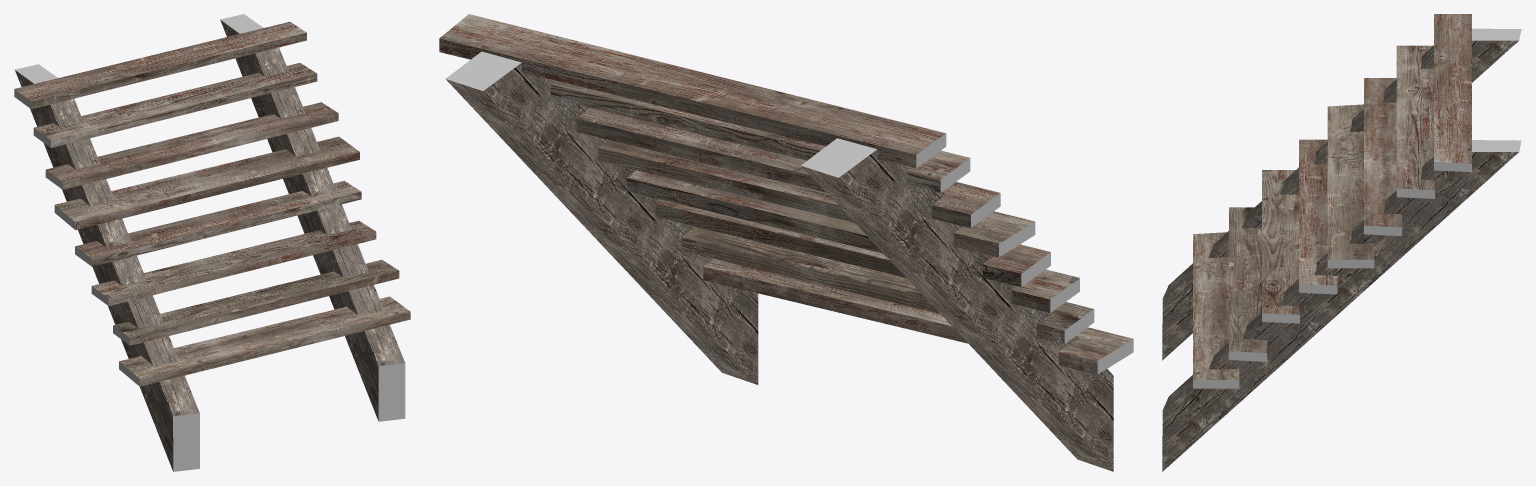
File: Pier_Stairs2_LOD1.fbx
3 views of the same model, side by side, from view 1: azimuth 30°, elevation 25°; view 2: azimuth 150°, elevation 25°; view 3: azimuth 270°, elevation 25° (orthographic). The views are drawn at different scales.
Visible parts, largest first — view 1: Object042; view 2: Object042; view 3: Object042.
Part boxes in pixels (bbox=[...]): Object042: bbox=[14, 14, 410, 471]; Object042: bbox=[439, 14, 1133, 471]; Object042: bbox=[1162, 14, 1521, 471].
Size of the model in its own units: 2.99 by 2.92 by 2.95.
